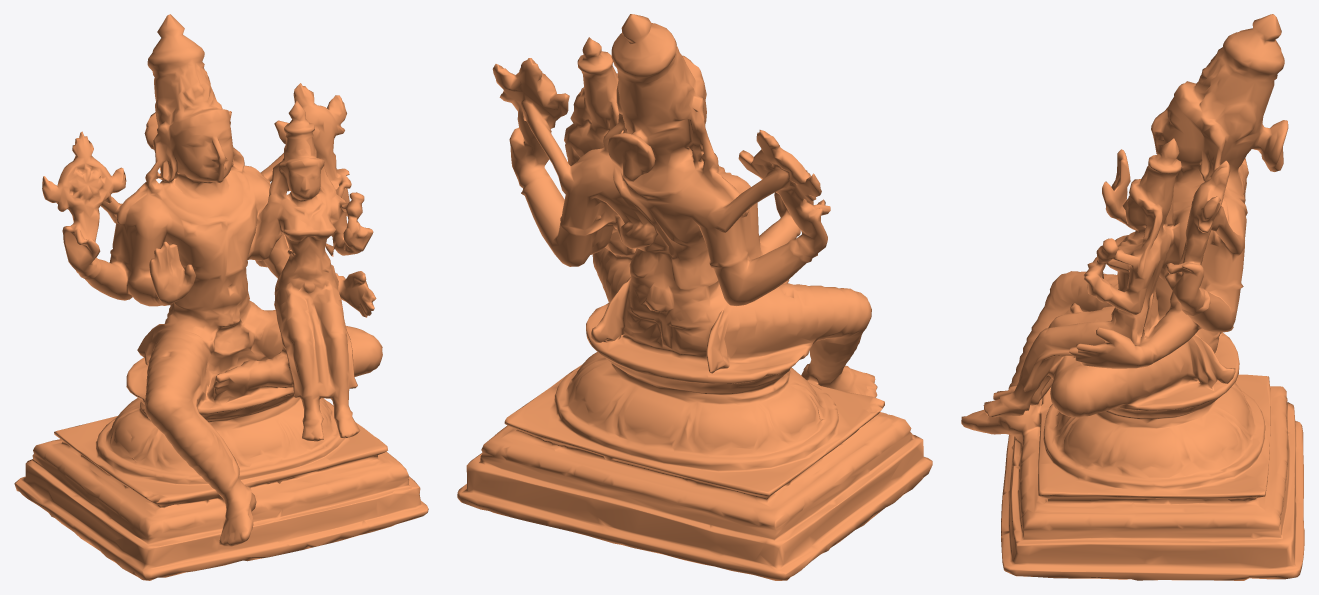
The model's file is Vainavam_Lakshmi__Narayanan_10.glb.
3 renders of one model, left to right at view 1: azimuth 30°, elevation 25°; view 2: azimuth 150°, elevation 25°; view 3: azimuth 270°, elevation 25°, orthographic. The views are drawn at different scales.
Visible parts, largest first — view 1: Vainavam_Lakshmi__Narayanan_10; view 2: Vainavam_Lakshmi__Narayanan_10; view 3: Vainavam_Lakshmi__Narayanan_10.
Boxes of the visible parts, bbox=[...] form: Vainavam_Lakshmi__Narayanan_10: bbox=[14, 14, 428, 580]; Vainavam_Lakshmi__Narayanan_10: bbox=[457, 14, 932, 580]; Vainavam_Lakshmi__Narayanan_10: bbox=[961, 14, 1304, 580].
Size of the model in its own units: 0.3373 by 0.4935 by 0.3126.
